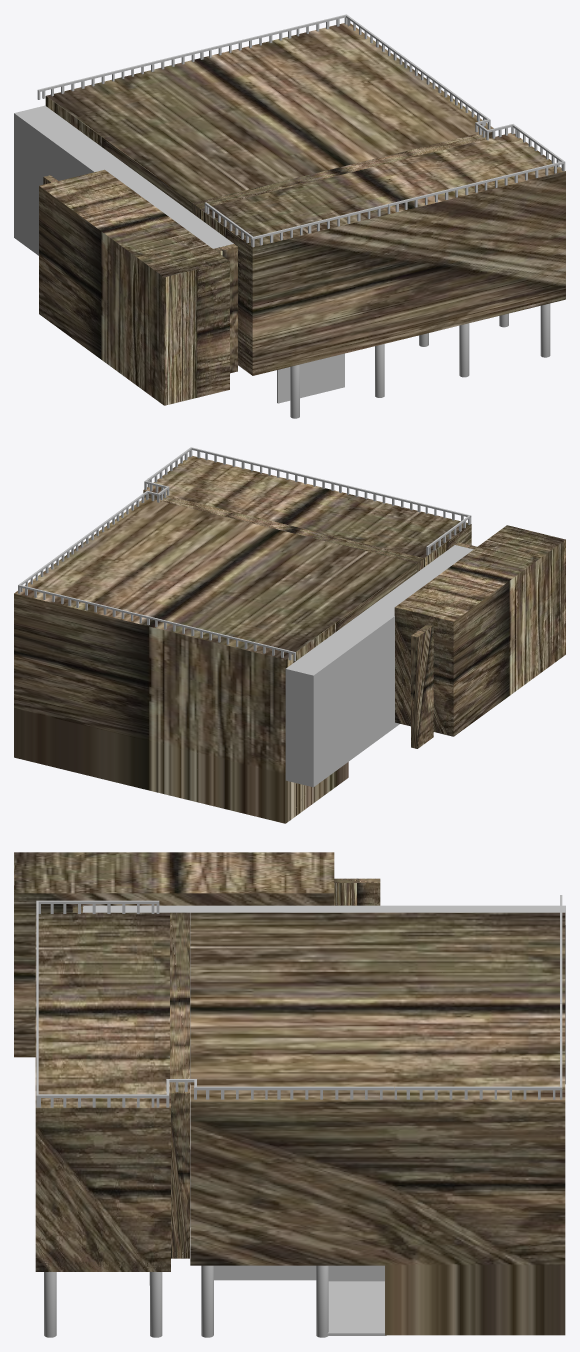
3 renders of one model, top to bottom at view 1: azimuth 30°, elevation 25°; view 2: azimuth 150°, elevation 25°; view 3: azimuth 270°, elevation 25°, orthographic. The views are drawn at different scales.
Visible parts, largest first — view 1: Batiment_gauche, bat_principal, salles_arriere_gauche.001, couloir1, inter_bat_verre, baie_vitree_cafet, barriere2, barriere4, barriere3, interbat_verre, Cylinder.002, Cylinder (+2 smaller); view 2: bat_principal, salles_arriere_gauche.001, couloir1, bat_droit_rez_de_chausee, Batiment_gauche, interbat_verre.002, inter_bat_verre, barriere2, barriere4, barriere3; view 3: bat_principal, Batiment_gauche, salles_arriere_gauche.001, bat_droit_rez_de_chausee, inter_bat_verre, couloir1, sol_bois, barriere3, baie_vitree_hall1, interbat_verre.002, porte_entree, Cylinder.001 (+7 smaller).
Part boxes in pixels (x1,y1,x2,y2): Batiment_gauche: (199,133,565,375); bat_principal: (45,23,493,212); salles_arriere_gauche.001: (39,169,229,405); couloir1: (14,105,233,255); inter_bat_verre: (192,132,489,218); baie_vitree_cafet: (277,353,344,403); barriere2: (251,161,565,247); barriere4: (37,14,347,99); barriere3: (345,14,516,140); interbat_verre: (213,244,237,373); Cylinder.002: (459,323,469,377); Cylinder: (540,303,550,357); bat_principal: (14,497,417,774); salles_arriere_gauche.001: (394,525,565,736); couloir1: (285,545,473,787); bat_droit_rez_de_chausee: (14,708,348,823); Batiment_gauche: (143,456,471,567); interbat_verre.002: (411,624,433,748); inter_bat_verre: (159,495,423,571); barriere2: (190,447,471,524); barriere4: (18,584,295,661); barriere3: (19,479,169,591); bat_principal: (190,912,565,1265); Batiment_gauche: (35,912,170,1271); salles_arriere_gauche.001: (14,852,334,1057); bat_droit_rez_de_chausee: (385,1265,565,1335); inter_bat_verre: (170,912,189,1258); couloir1: (83,905,565,1084); sol_bois: (327,1281,386,1335); barriere3: (157,1079,561,1107); baie_vitree_hall1: (214,1265,316,1280); interbat_verre.002: (334,878,380,905); porte_entree: (328,1265,384,1281); Cylinder.001: (201,1265,213,1337).
Size of the model in its own units: 67.74 by 31.27 by 61.78.
1 material, 1 textured.
